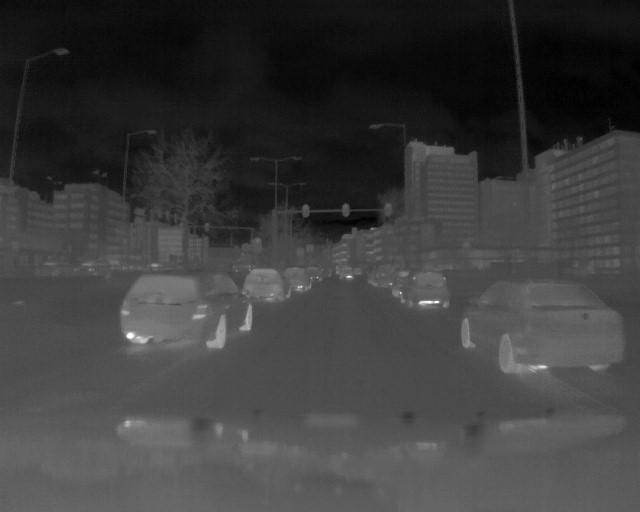car: (457, 276, 630, 377), (119, 264, 256, 353), (397, 268, 453, 311), (240, 265, 292, 304), (283, 262, 312, 294)
